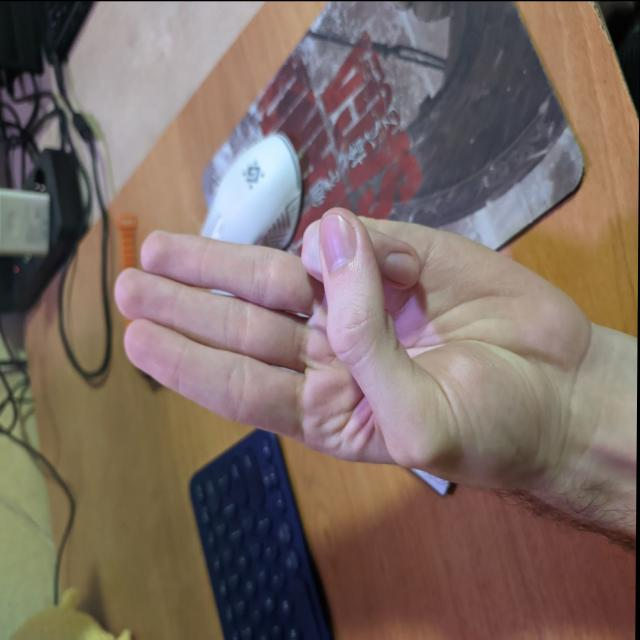sh: (94, 218, 572, 481)
